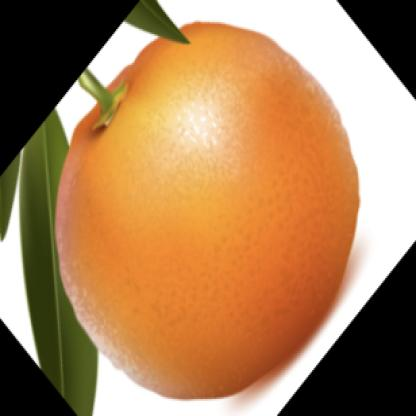fresh: (54, 22, 361, 401)
